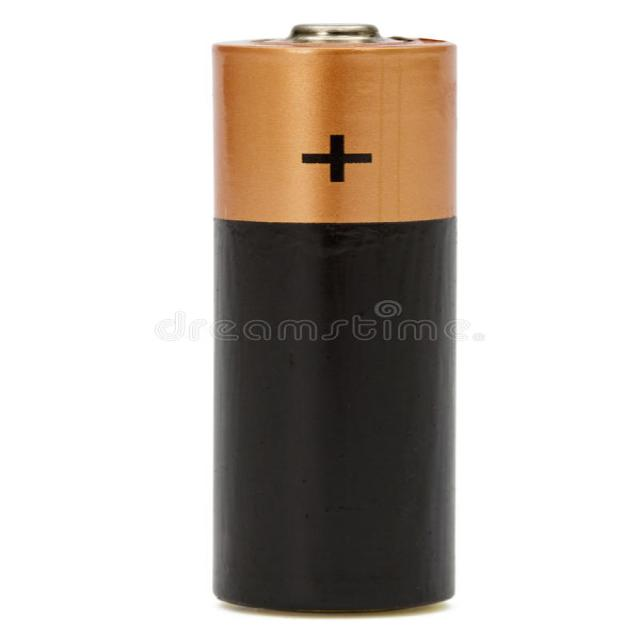Hazard: (213, 28, 482, 598)
